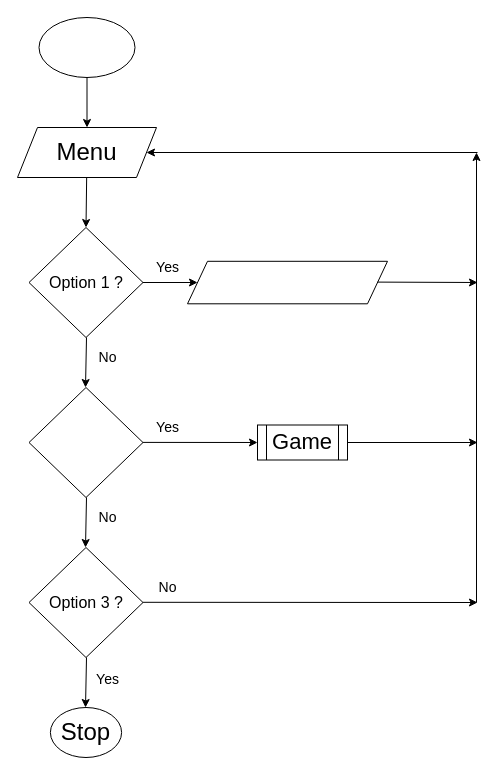
Image size: 503x775. Some labels were removed from this diagram. The box of each missing label's shape, as (x1, y1, x2, y2) in pixels:
Display Information: (186, 260, 388, 304)
Option 2 ?: (28, 386, 143, 498)
Start: (38, 16, 135, 78)
